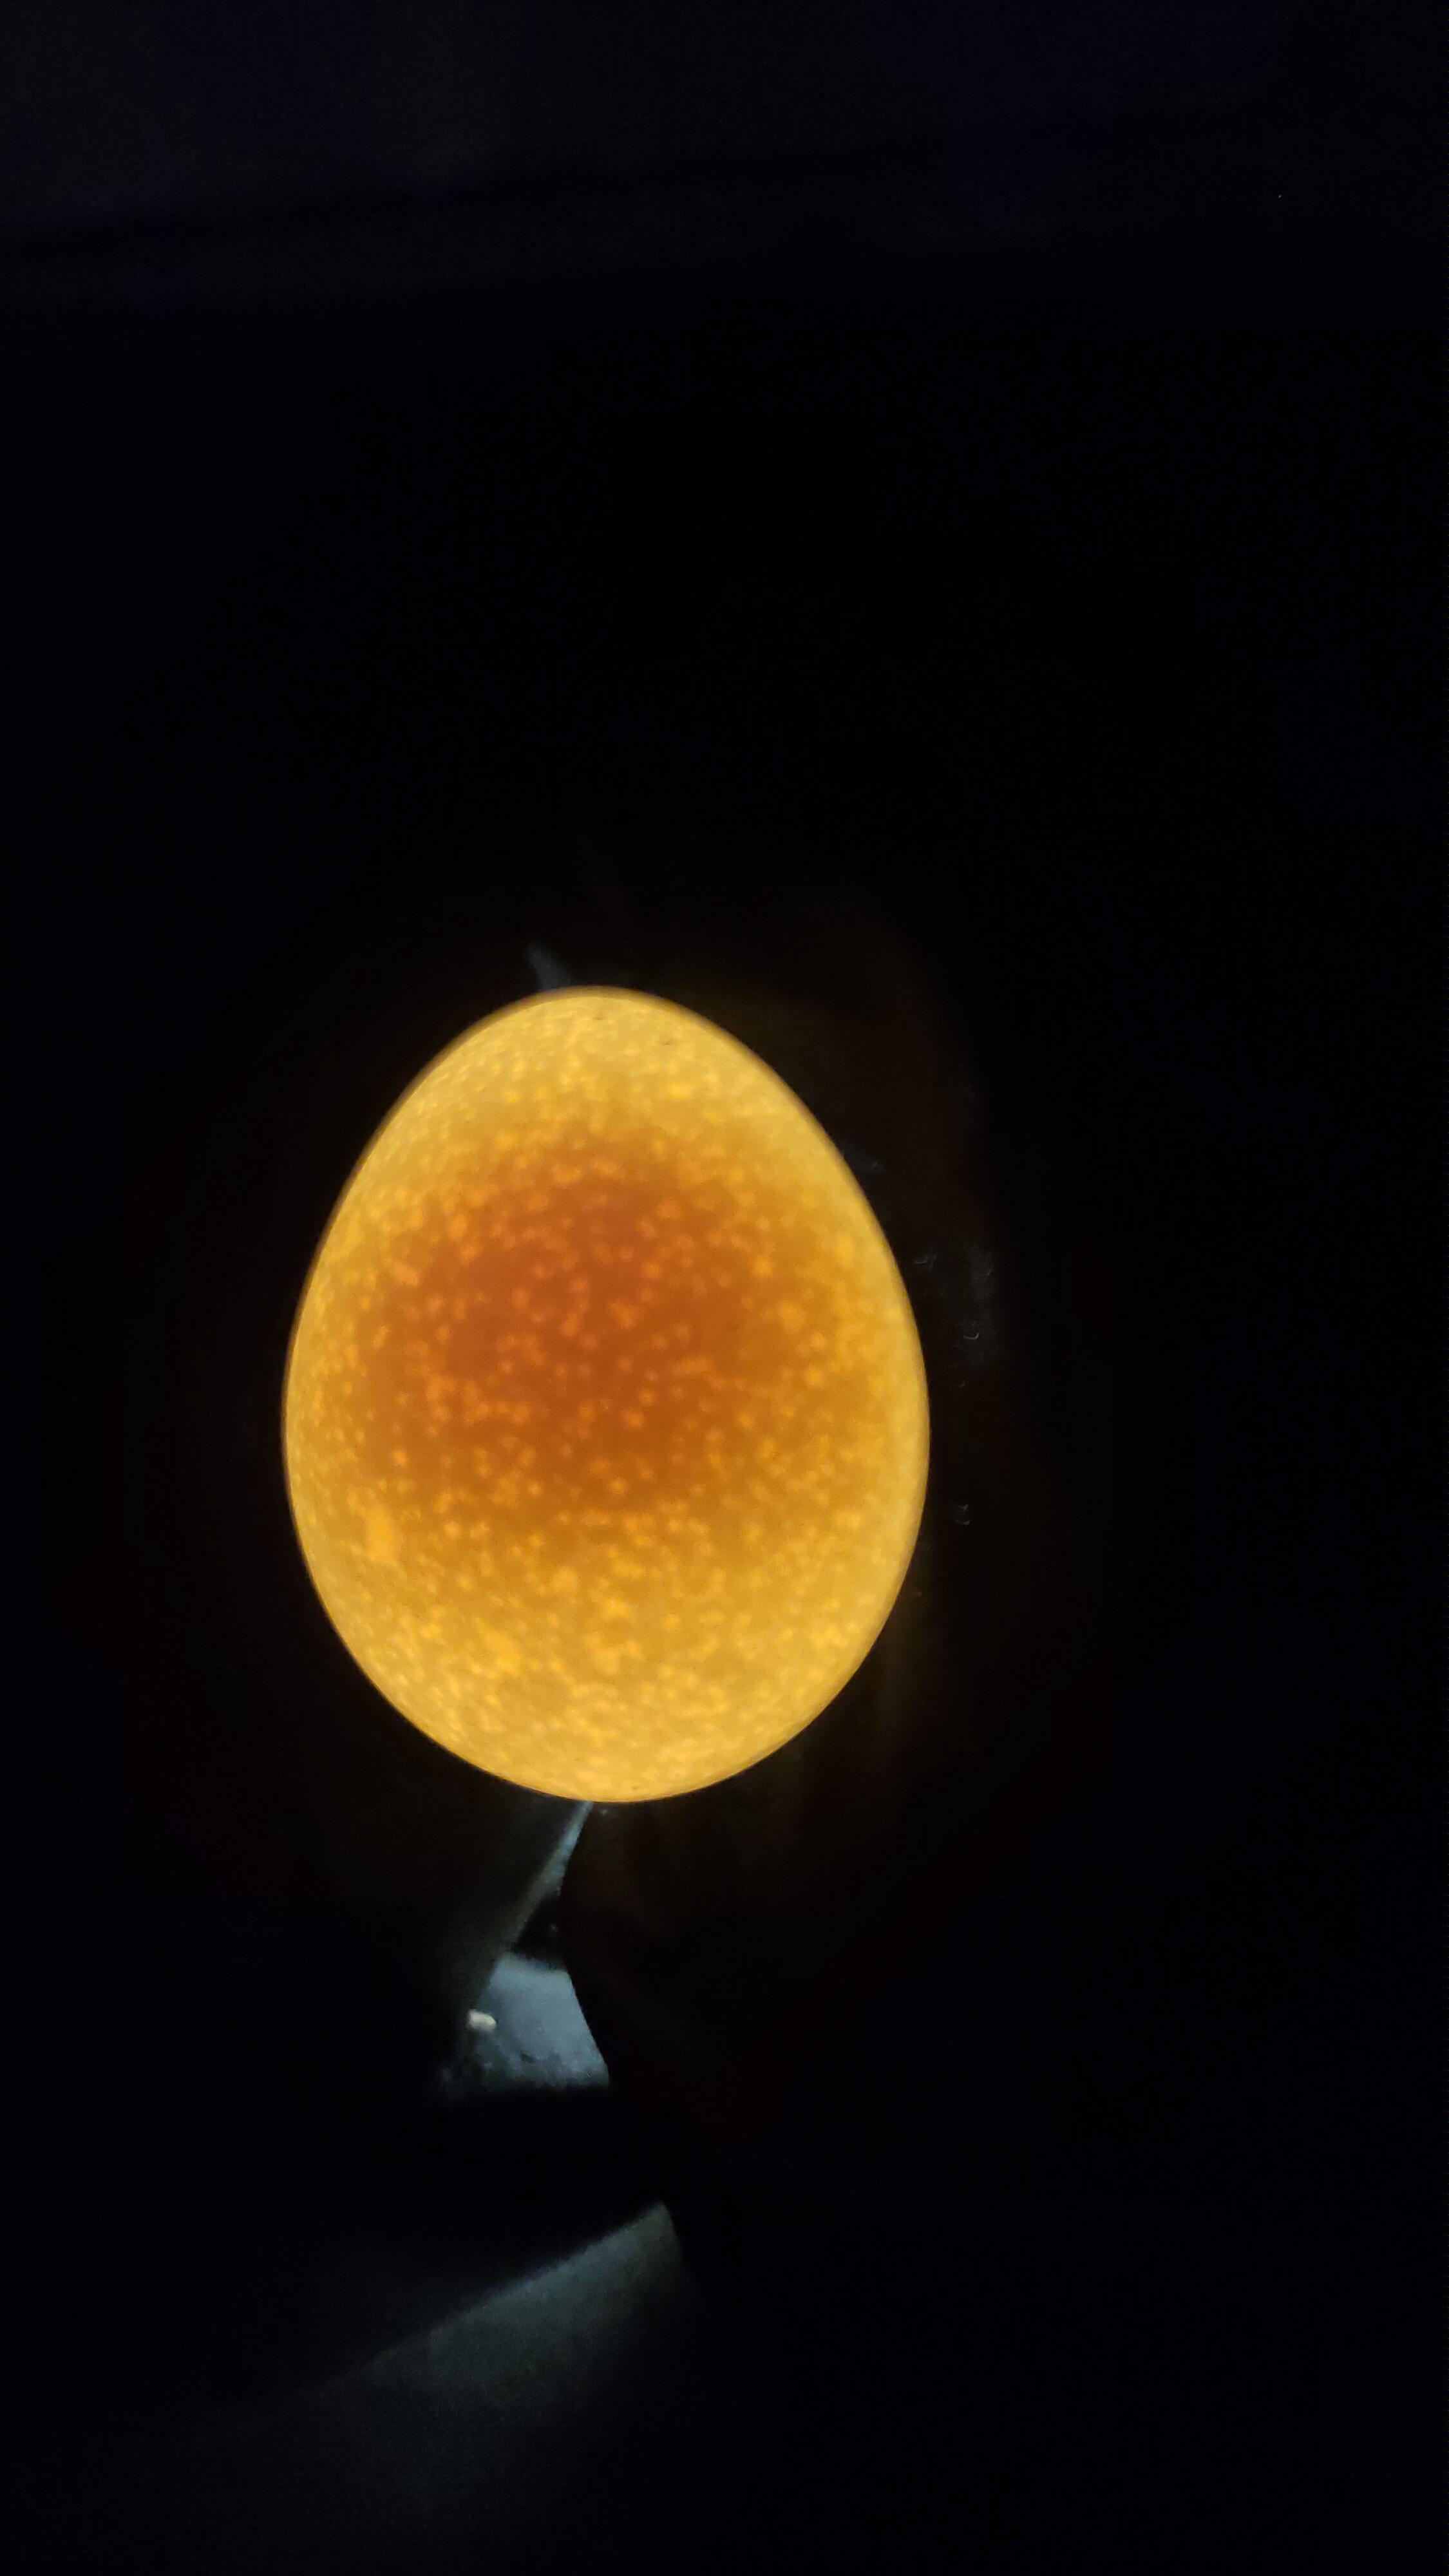A - Good: (251, 947, 966, 1861)
